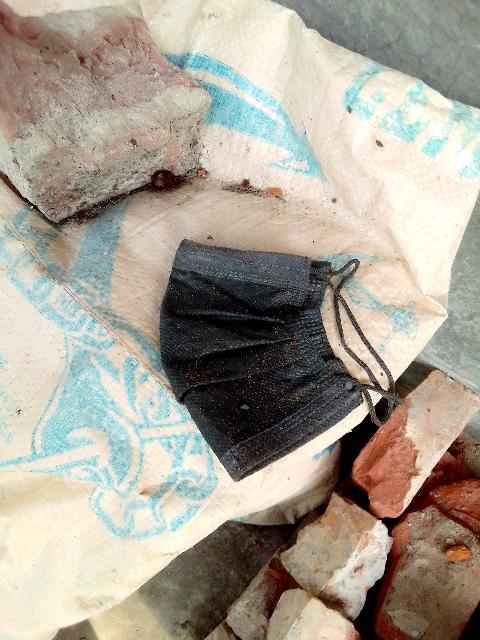mask: (174, 241, 358, 472)
